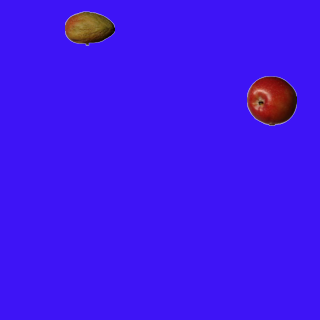Apple Braeburn: (246, 75, 296, 125)
Papaya: (64, 3, 114, 53)
